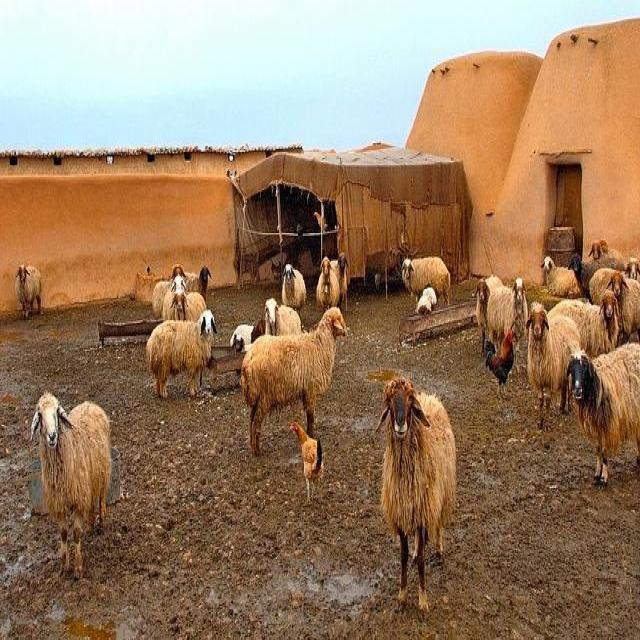Sheep: (163, 239, 639, 436), (374, 370, 457, 617), (242, 305, 349, 459), (29, 390, 112, 580), (566, 340, 639, 492), (146, 311, 218, 398), (401, 257, 452, 305)
